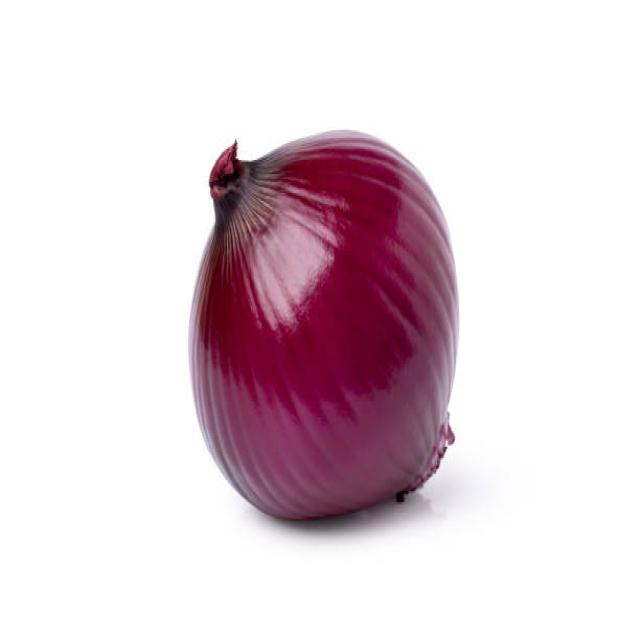onion: (181, 111, 463, 533)
